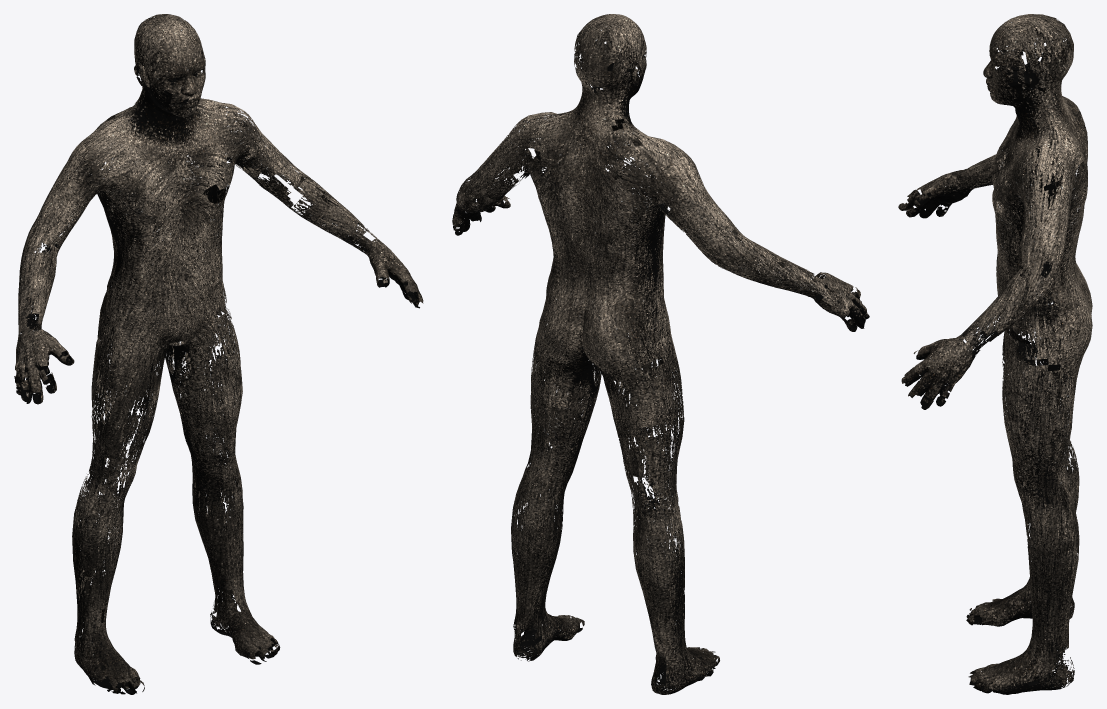
Rendered from ewf_fur.glb.
3 renders of one model, left to right at view 1: azimuth 30°, elevation 25°; view 2: azimuth 150°, elevation 25°; view 3: azimuth 270°, elevation 25°, orthographic.
Visible parts, largest first — view 1: ewf_fur; view 2: ewf_fur; view 3: ewf_fur.
Part boxes in pixels (x1,y1,x2,y2): ewf_fur: [14, 14, 423, 694]; ewf_fur: [452, 14, 869, 694]; ewf_fur: [898, 14, 1092, 694].
Size of the model in its own units: 1.22 by 1.87 by 0.5164.
1 material, 1 textured.
